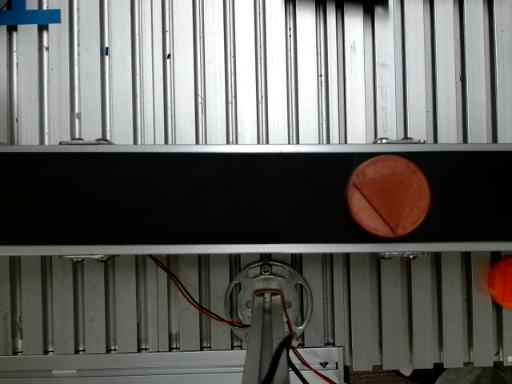Brown_Waper: (346, 155, 430, 238)
Not_Square: (351, 169, 421, 237)
